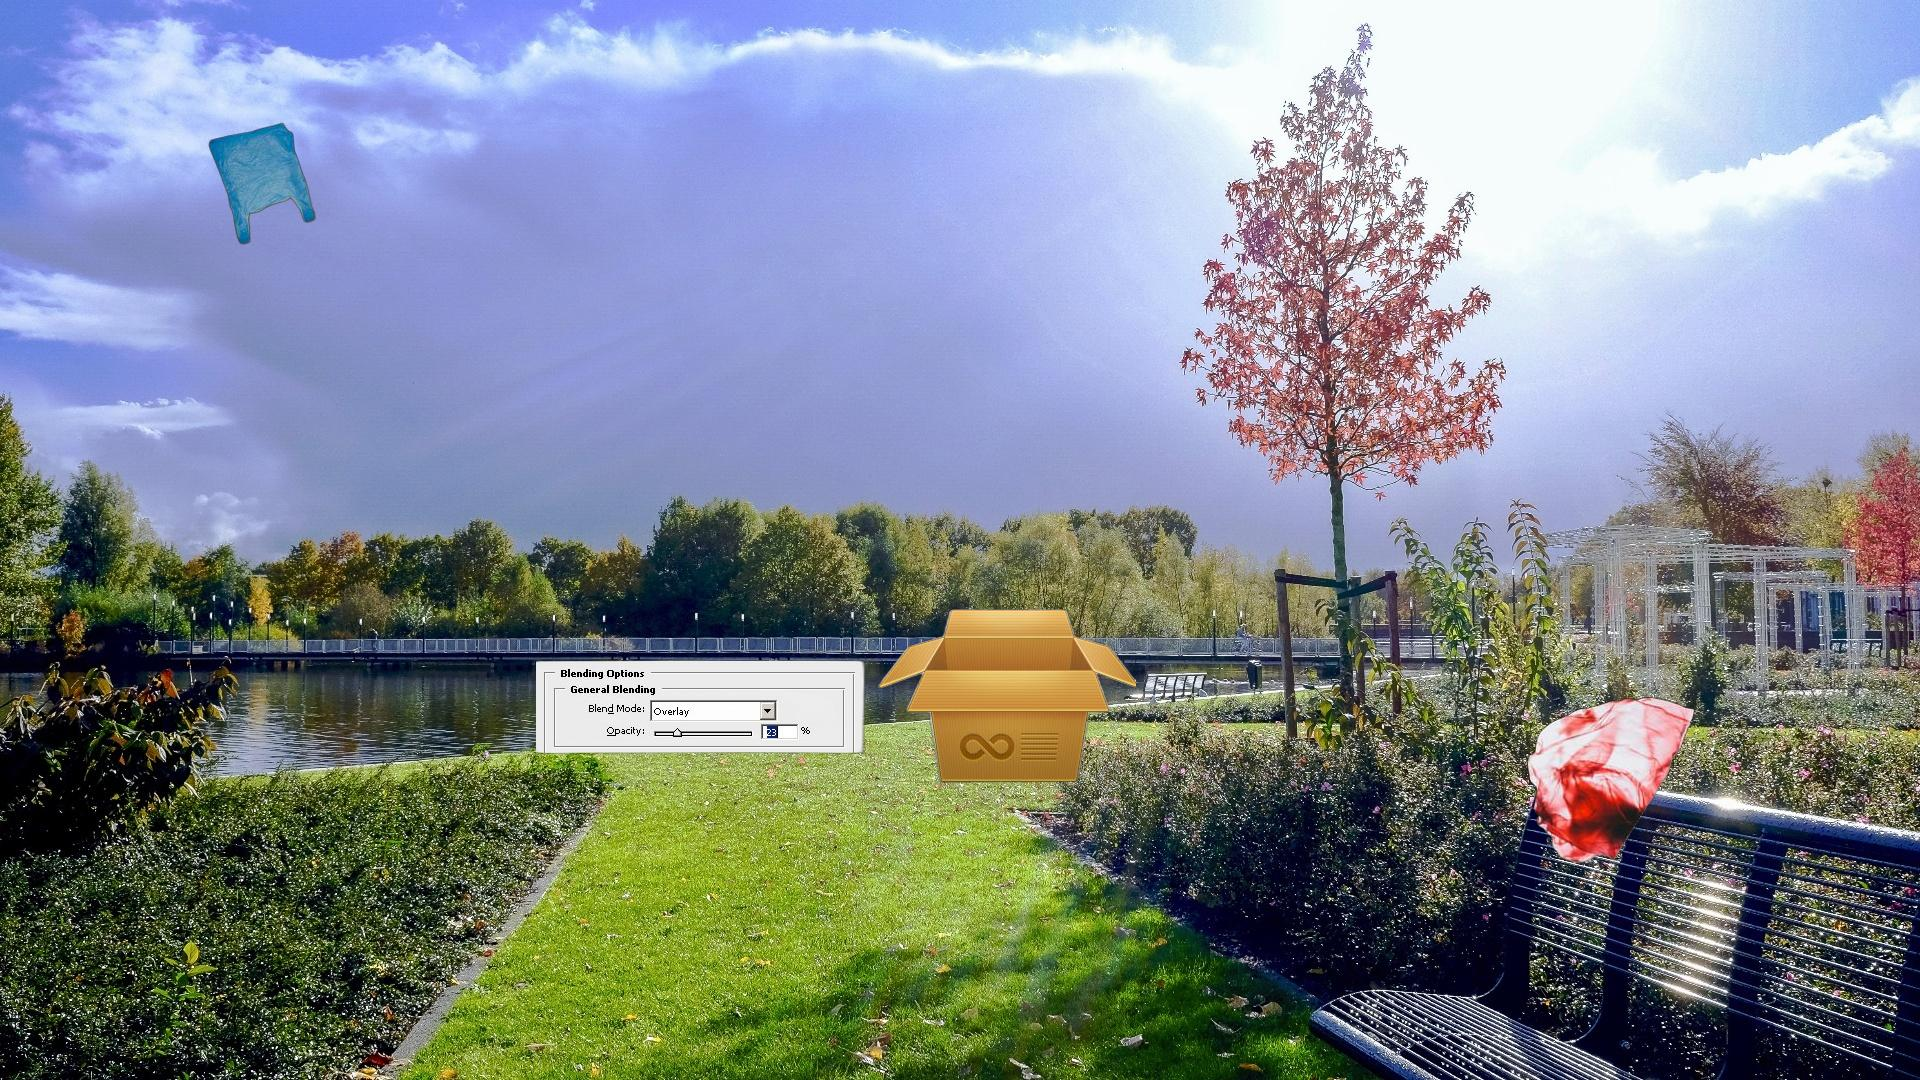plastic-bag: (1505, 694, 1698, 866), (207, 120, 318, 245)
trashbox-cardboard: (535, 607, 1135, 785)
